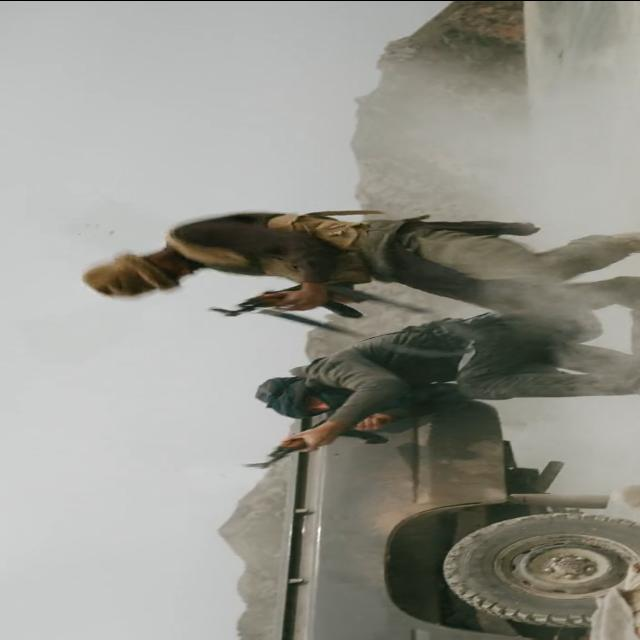terrorist: (83, 210, 640, 333), (242, 312, 640, 468)
